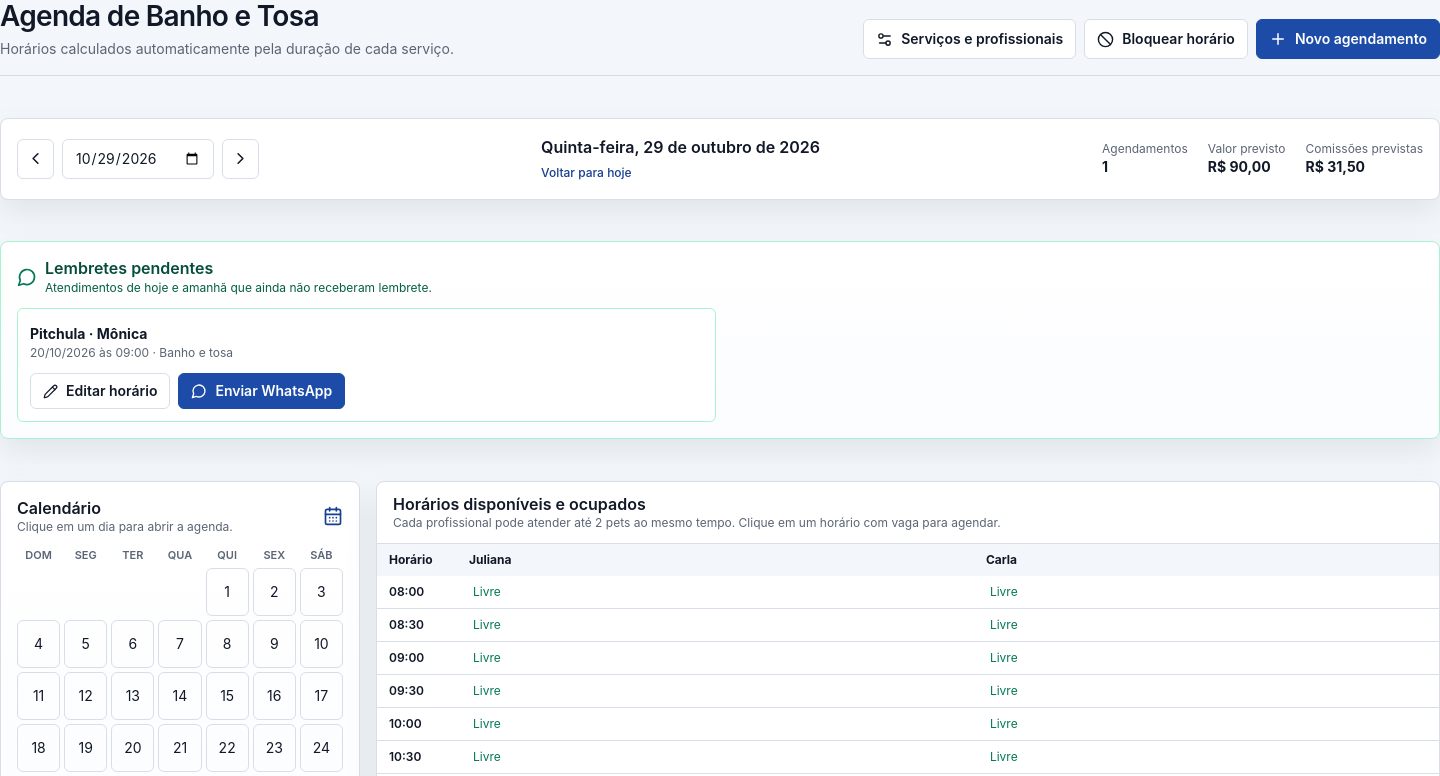
comissões na agenda › atualiza a prévia da comissão ao mudar valor ou profissional
This screenshot has width=1440, height=776.
Click the button "Novo agendamento": (1348, 39) [1256, 19, 1439, 59]
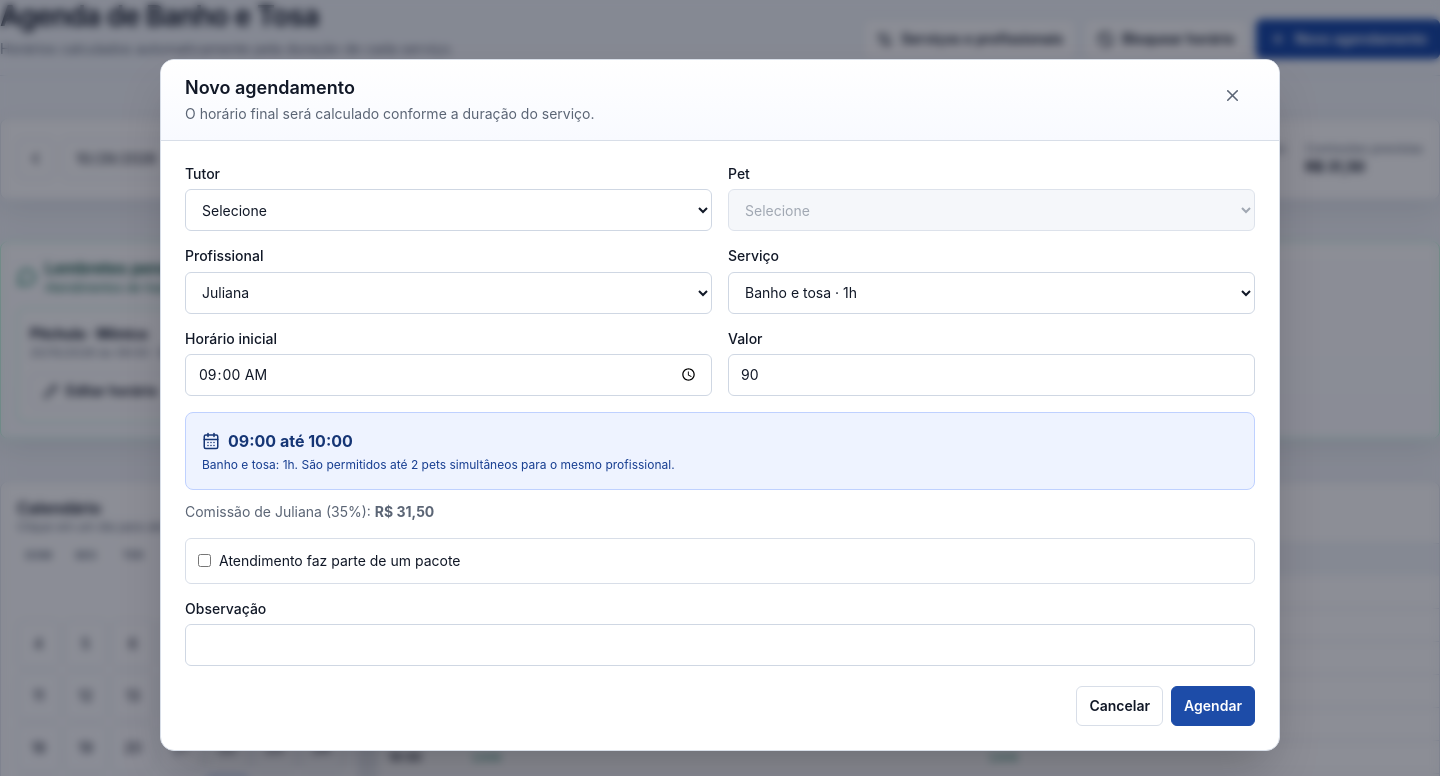
Expected: the text "Comissão de Juliana (35%): R$ 31,50" is shown, [185, 503, 434, 520]
Replace the text in the field labelled "Valor" with "R$ 100,00": (992, 375) [728, 354, 1255, 396]
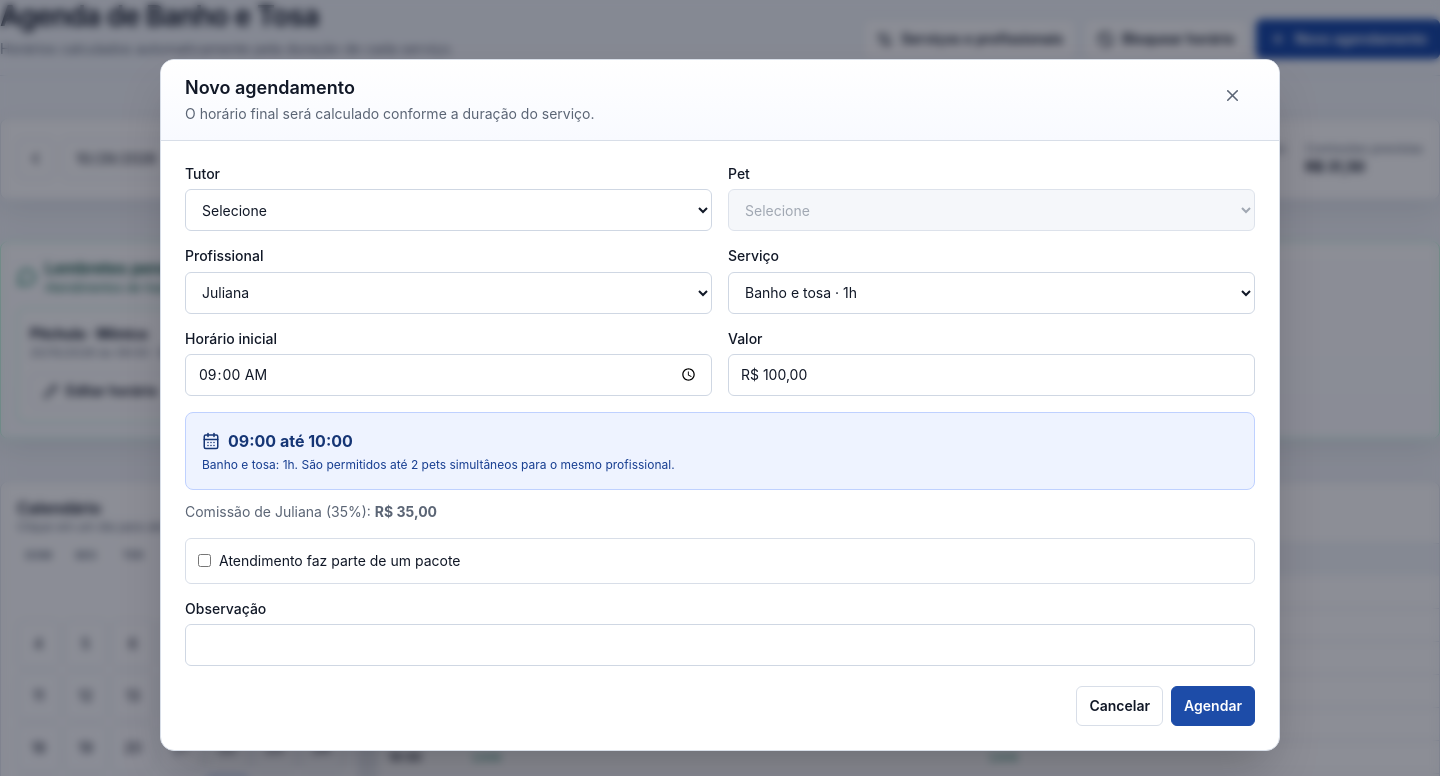
Expected: the text "Comissão de Juliana (35%): R$ 35,00" is shown, [185, 503, 437, 520]
Select "Carla" in the dropdown labelled "Profissional": (448, 293) [185, 272, 712, 314]
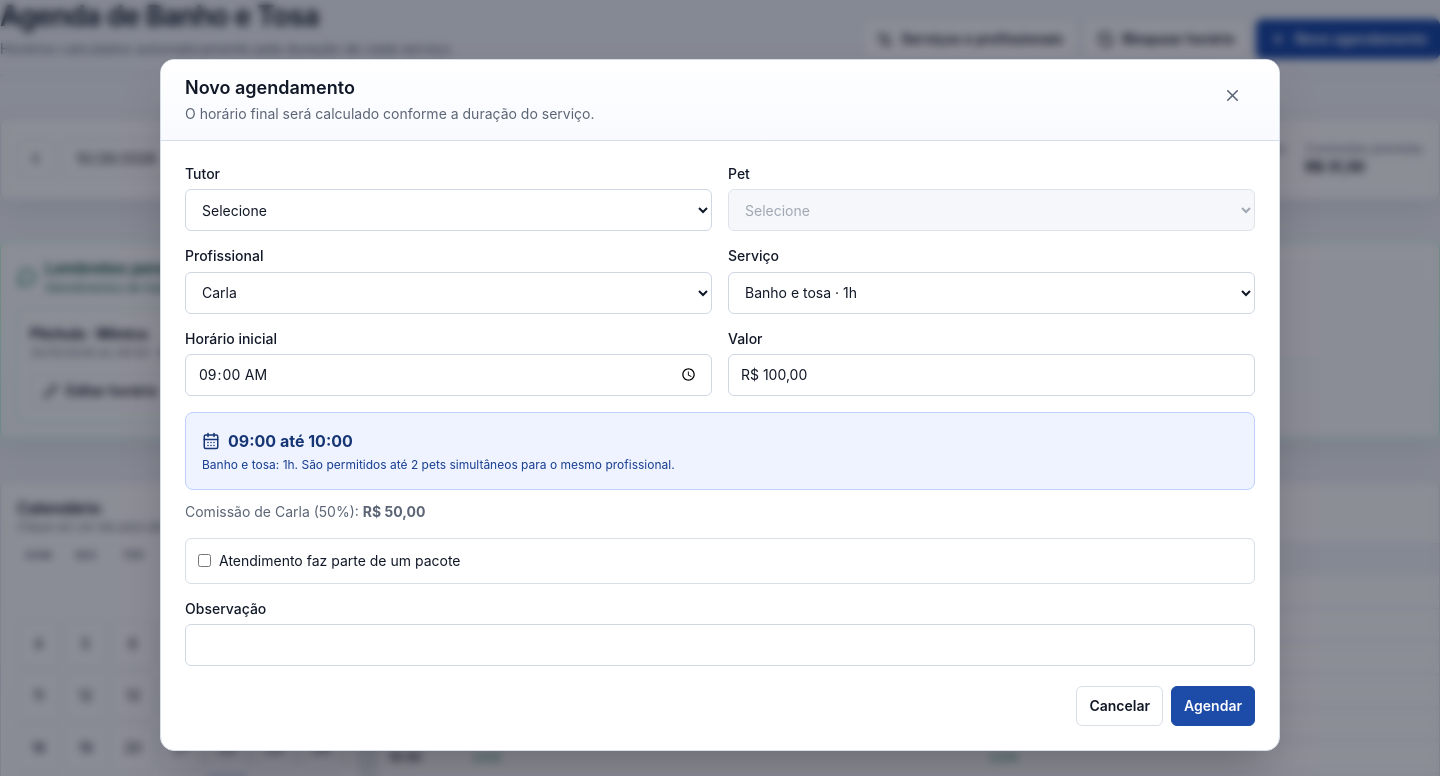
Expected: the text "Comissão de Carla (50%): R$ 50,00" is shown, [185, 503, 425, 520]
